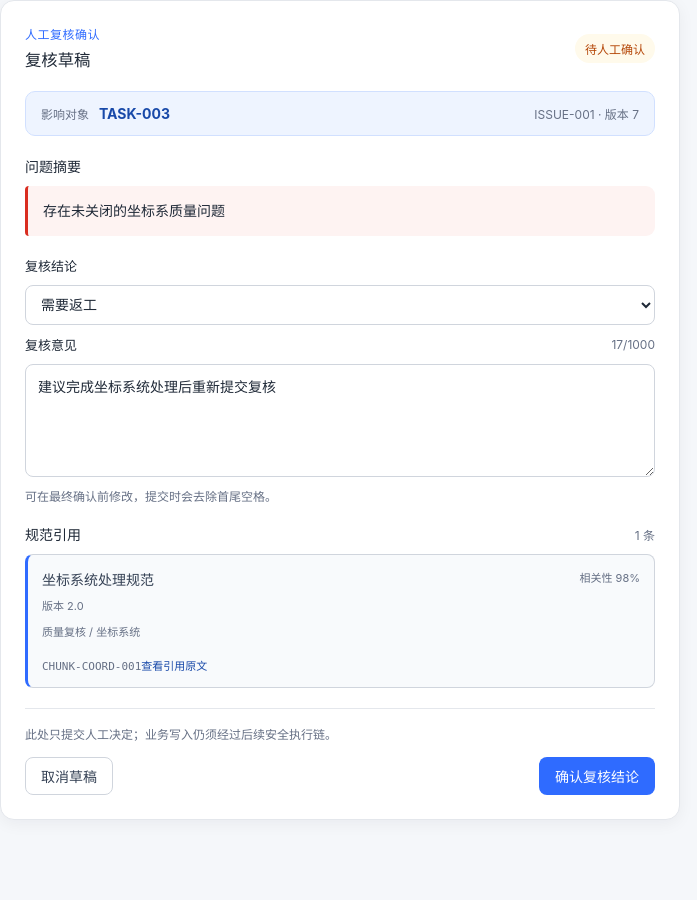
it: Review approval card › 展示影响对象、问题摘要和可追溯规范引用
Check: the text "坐标系统问题关闭后方可重新提交复核" is not shown
What coordinates should you click on to do the following:
click the button with test id "toggle-citation-content"
I would click on:
 (174, 665)
Its box is top-left (141, 657), bottom-right (207, 673).
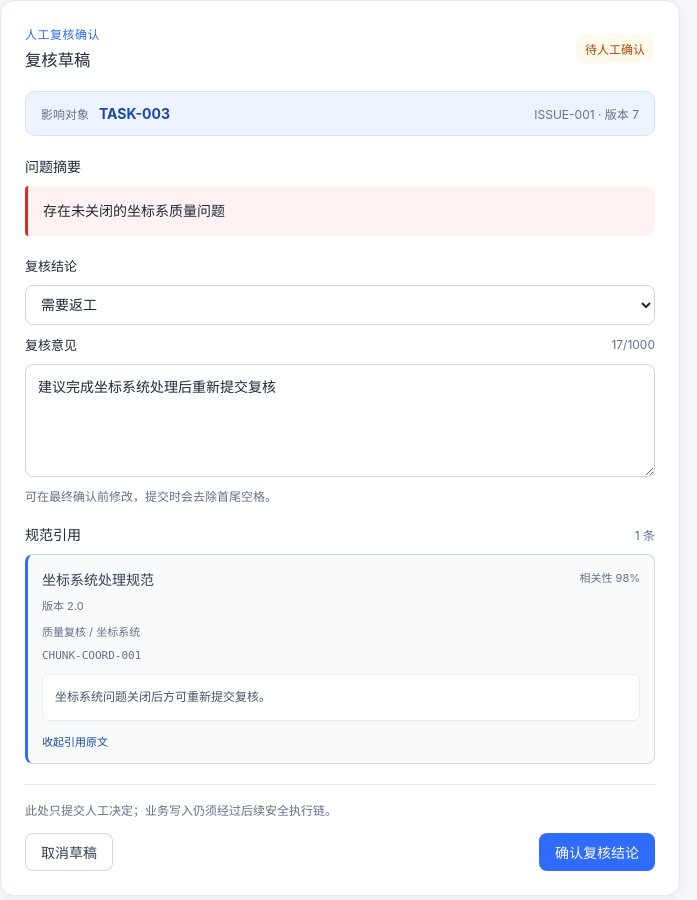
Check: the text "坐标系统问题关闭后方可重新提交复核" is shown, box top-left (55, 689), bottom-right (271, 704)
